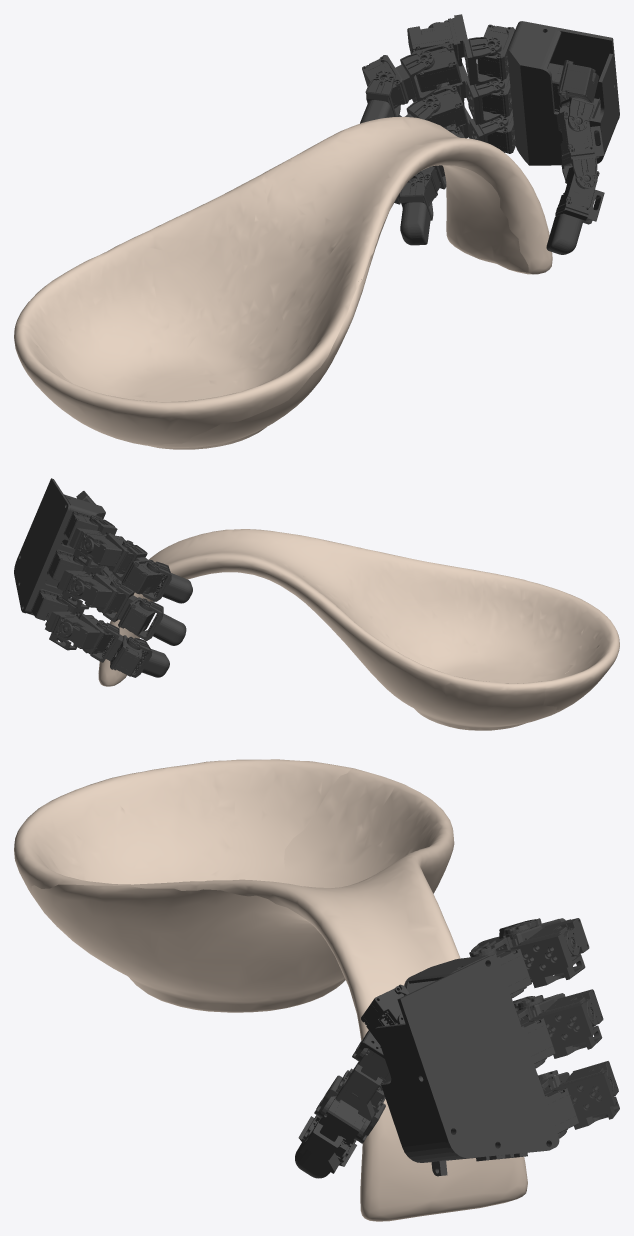
File: spoon_safe.glb
3 renders of one model, top to bottom at view 1: azimuth 30°, elevation 25°; view 2: azimuth 150°, elevation 25°; view 3: azimuth 270°, elevation 25°, orthographic. The views are drawn at different scales.
Parts seen in each view (by area): view 1: world.001, palm_link, mcp_joint_1, thumb_fingertip, thumb_dip, dip_1, fingertip_3, pip_1, mcp_joint_2, fingertip_1, pip_4, pip_2 (+3 smaller); view 2: world.001, palm_link, mcp_joint_1, mcp_joint_3, mcp_joint_2, dip_3, dip_1, dip_2, fingertip_2, fingertip_1, fingertip_3, pip_2 (+2 smaller); view 3: world.001, palm_link, mcp_joint_1, thumb_fingertip, mcp_joint_2, thumb_dip, mcp_joint_3, pip_4.
Boxes of the visible parts, bbox=[...] form: world.001: bbox=[14, 116, 552, 449]; palm_link: bbox=[477, 21, 619, 165]; mcp_joint_1: bbox=[407, 14, 501, 85]; thumb_fingertip: bbox=[546, 167, 604, 254]; thumb_dip: bbox=[556, 111, 604, 188]; dip_1: bbox=[362, 50, 441, 108]; fingertip_3: bbox=[399, 172, 433, 245]; pip_1: bbox=[411, 42, 461, 92]; mcp_joint_2: bbox=[412, 62, 504, 124]; fingertip_1: bbox=[360, 70, 400, 123]; pip_4: bbox=[557, 60, 598, 102]; pip_2: bbox=[415, 84, 467, 128]; world.001: bbox=[98, 529, 619, 730]; palm_link: bbox=[14, 478, 105, 621]; mcp_joint_1: bbox=[69, 515, 121, 567]; mcp_joint_3: bbox=[45, 594, 99, 650]; mcp_joint_2: bbox=[57, 556, 111, 609]; dip_3: bbox=[82, 620, 141, 676]; dip_1: bbox=[109, 540, 164, 593]; dip_2: bbox=[96, 580, 155, 635]; fingertip_2: bbox=[128, 598, 186, 645]; fingertip_1: bbox=[139, 560, 192, 603]; fingertip_3: bbox=[118, 636, 169, 677]; pip_2: bbox=[92, 573, 125, 613]; world.001: bbox=[14, 759, 527, 1221]; palm_link: bbox=[374, 948, 579, 1176]; mcp_joint_1: bbox=[469, 918, 589, 998]; thumb_fingertip: bbox=[295, 1096, 370, 1178]; mcp_joint_2: bbox=[516, 989, 603, 1068]; thumb_dip: bbox=[314, 1042, 391, 1143]; mcp_joint_3: bbox=[540, 1061, 619, 1138]; pip_4: bbox=[361, 984, 409, 1044].
Size of what is drawn, in the model's own units: 0.6153 by 0.1949 by 0.3661.
